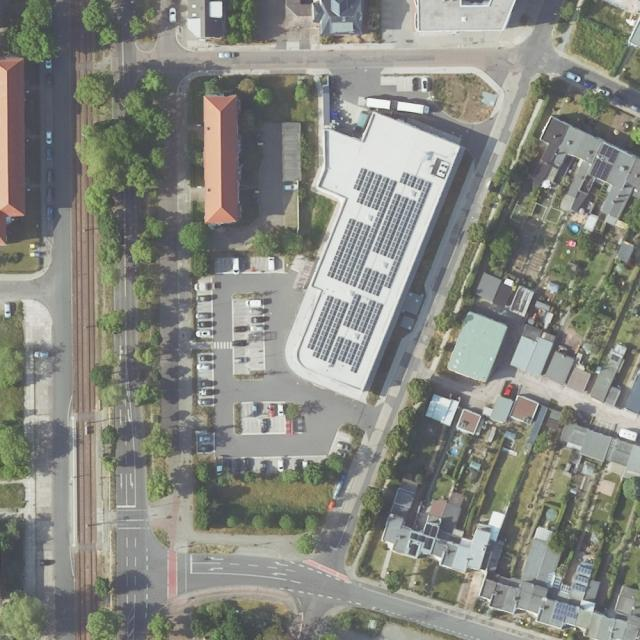PV: (328, 166, 432, 296), (307, 293, 385, 373), (590, 143, 619, 180), (410, 524, 438, 549), (554, 601, 580, 621), (577, 565, 593, 574), (575, 575, 589, 583), (573, 584, 587, 592), (409, 544, 418, 556)
